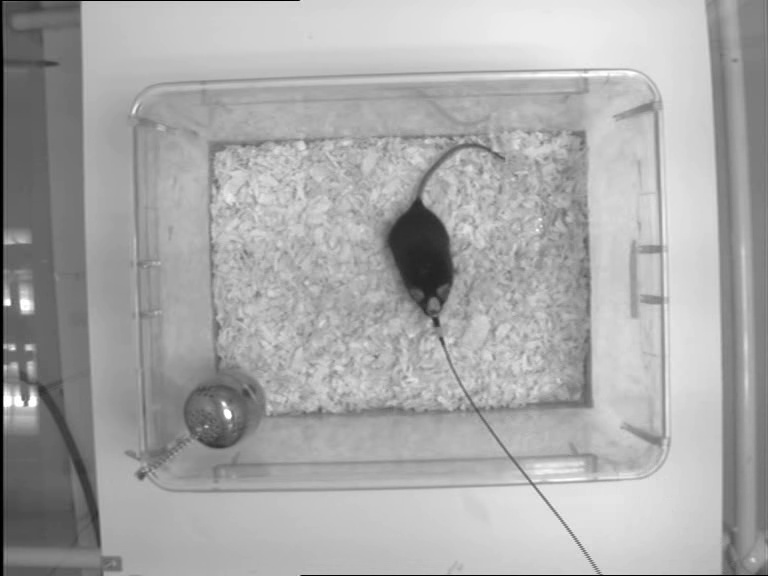mice: (384, 139, 505, 319)
